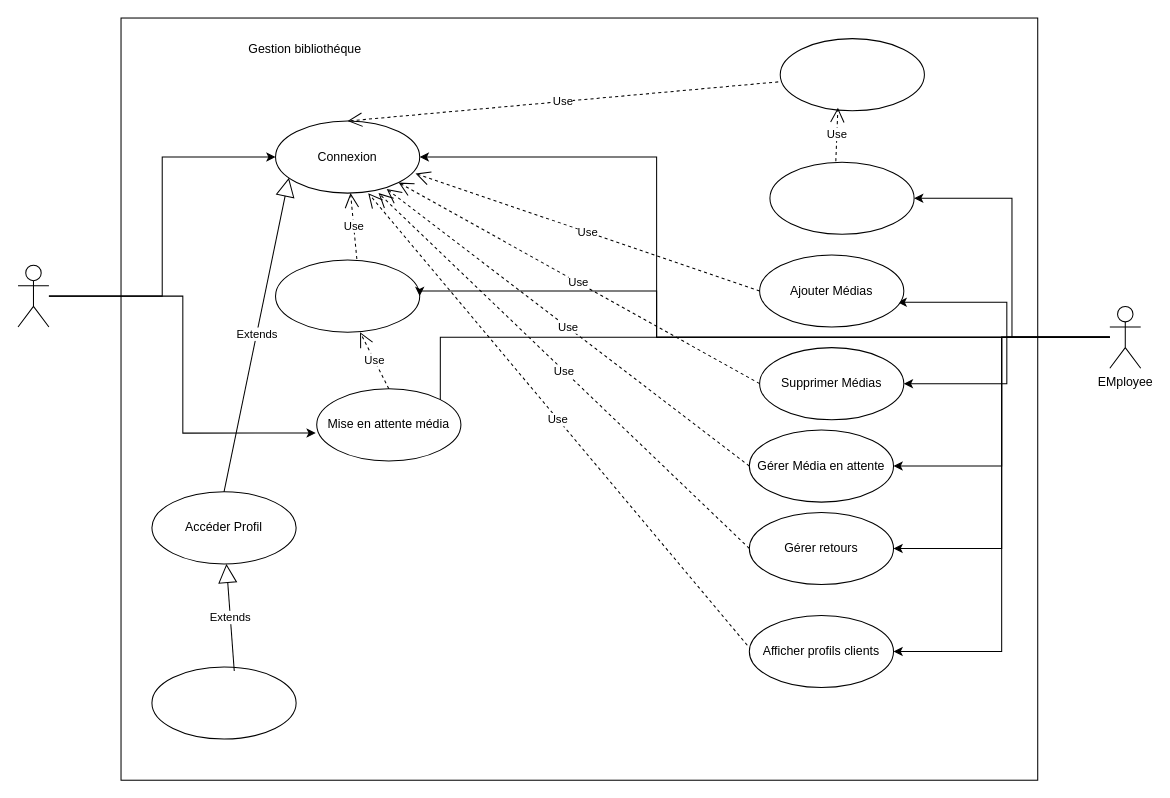
The diagram is 1170 pixels wide and 798 high, and some of its shapes have lost their labels. Here are the shapes that lost their labels. From the top down, the centre of each, then its label:
(851,74): Ajouter/Attriber Client
(841,197): Ajouter Carte biblio
(33,295): Client
(347,295): Recherche médias
(223,702): Mise à jour Profil
